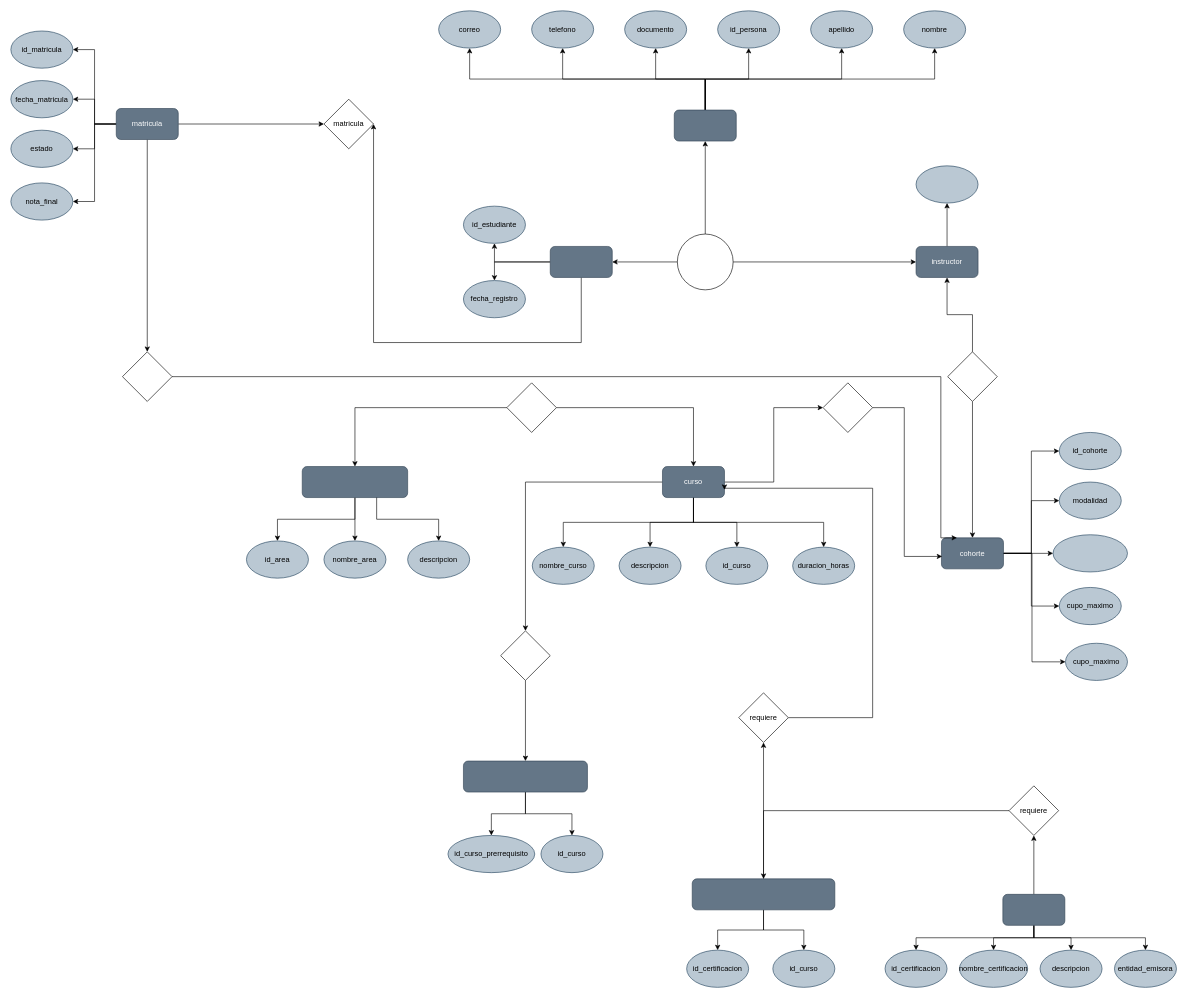
This 1187x998 diagram has some shape labels left out. Each missing label, with the centre of its shape:
AREA_CONOCIMIENTO: (x=355, y=482)
certificacion: (x=1033, y=909)
CERTIFICACION_CURSO: (x=763, y=894)
clasifica: (x=531, y=407)
CURSO_PRERREQUISITO: (x=525, y=776)
dicta: (x=972, y=376)
estudiante: (x=581, y=261)
id_instructor: (x=946, y=184)
matriucla: (x=147, y=376)
nesesita: (x=525, y=655)
periodo_academico: (x=1089, y=553)
persona: (x=705, y=125)
se_oferta: (x=847, y=407)
